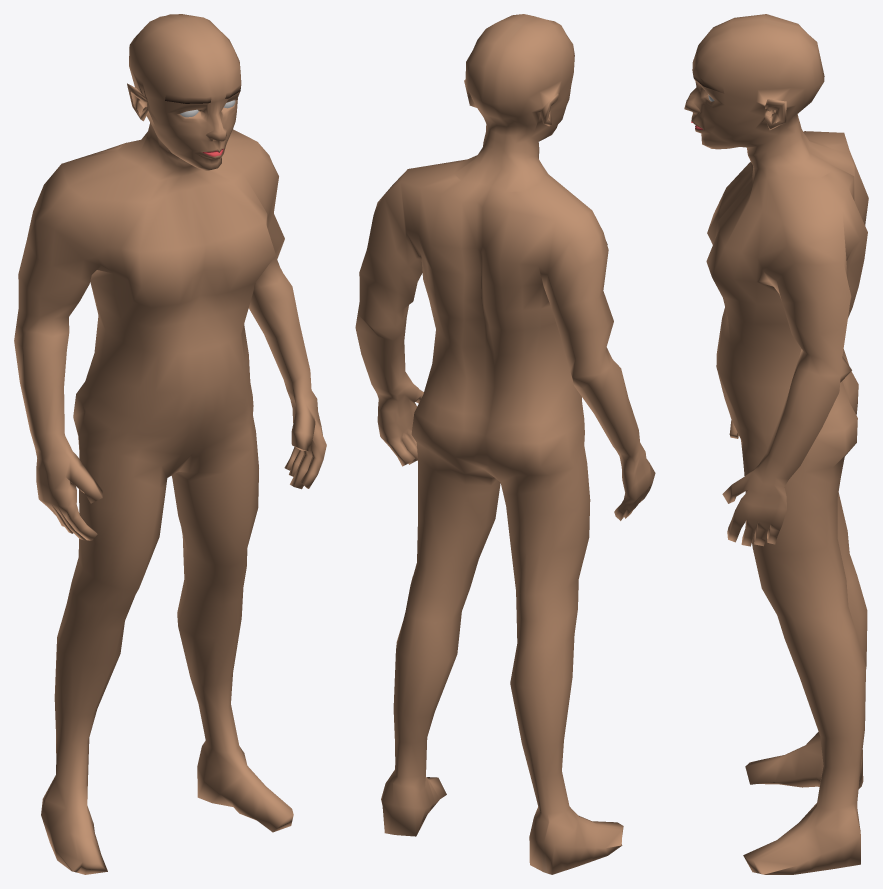
Rendered from boneco21.glb.
3 views of the same model, side by side, from view 1: azimuth 30°, elevation 25°; view 2: azimuth 150°, elevation 25°; view 3: azimuth 270°, elevation 25° (orthographic). The views are drawn at different scales.
Visible parts, largest first — view 1: Plane.025; view 2: Plane.025; view 3: Plane.025.
Boxes of the visible parts, x1=… form: Plane.025: x1=14, y1=14, x2=326, y2=874; Plane.025: x1=355, y1=14, x2=655, y2=874; Plane.025: x1=684, y1=14, x2=868, y2=874.
Bounding box in the file's own units: 1.19 × 3.47 × 0.7234.
